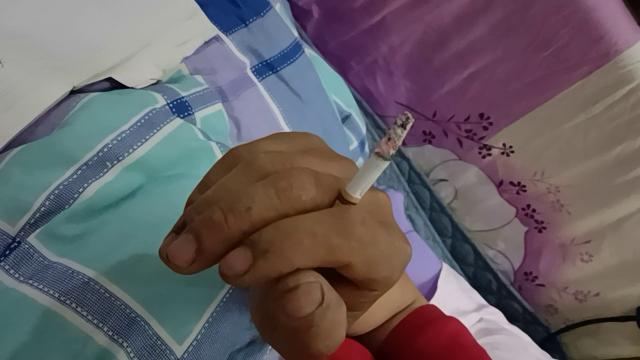Cigarette: (328, 110, 416, 224)
